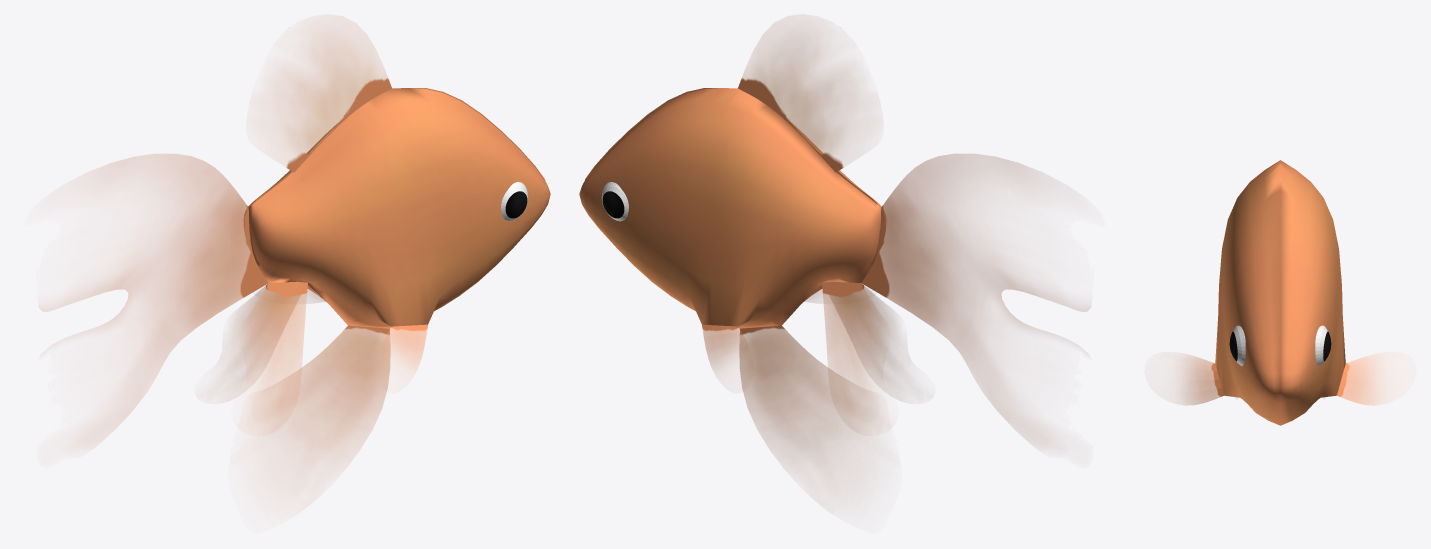
The model's file is fish_fancier2.glb.
The picture shows the model from 3 angles, left to right: view 1: azimuth 30°, elevation 25°; view 2: azimuth 150°, elevation 25°; view 3: azimuth 270°, elevation 25°; orthographic projection. The views are drawn at different scales.
Visible parts, largest first — view 1: Cube, Sphere; view 2: Cube, Sphere.001; view 3: Cube, Sphere, Sphere.001.
Boxes of the visible parts, box(x1,y1,x2,y2) form: Cube: box(39, 22, 550, 480); Sphere: box(501, 182, 528, 221); Cube: box(579, 22, 1090, 480); Sphere.001: box(601, 182, 628, 221); Cube: box(1177, 160, 1383, 425); Sphere: box(1229, 325, 1245, 365); Sphere.001: box(1315, 325, 1331, 365).
Size of the model in its own units: 0.8065 by 0.7283 by 0.3438.
2 materials, 2 textured.
